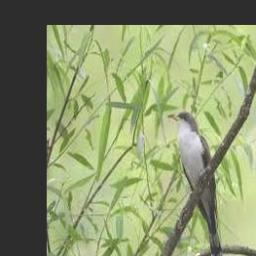Cuckoo: (168, 111, 226, 256)
